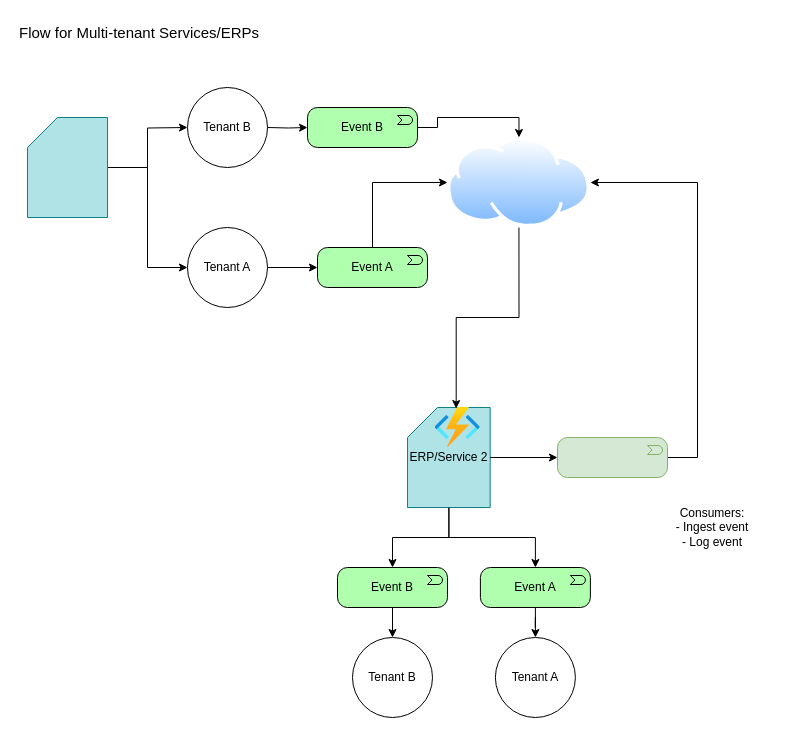
The diagram is 794 pixels wide and 735 high, and some of its shapes have lost their labels. Each missing label, with the centre of its shape:
AIP: the point at 518,182
ERP/Service1: the point at 67,167
Log Event: the point at 612,457
Web hook: the point at 457,427
